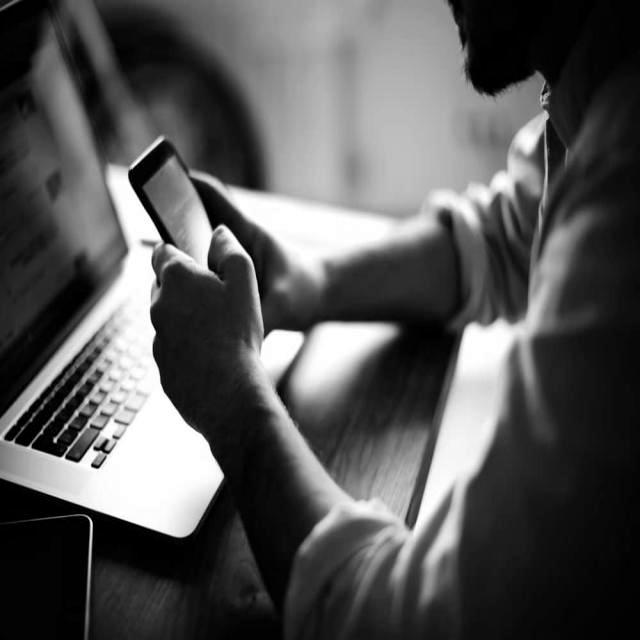phone: (128, 134, 216, 272)
